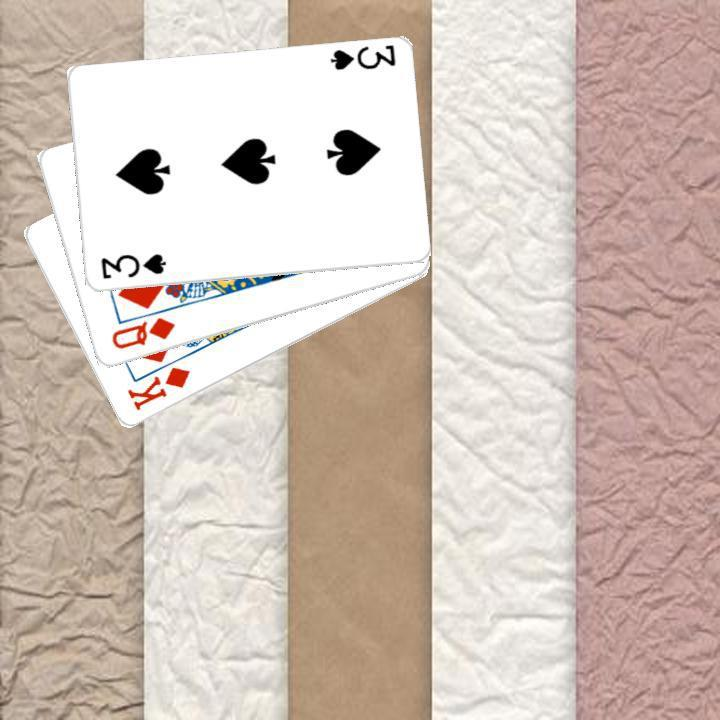3: (96, 250, 167, 282), (326, 41, 397, 73)
K: (122, 363, 193, 413)
Q: (107, 313, 177, 352)
